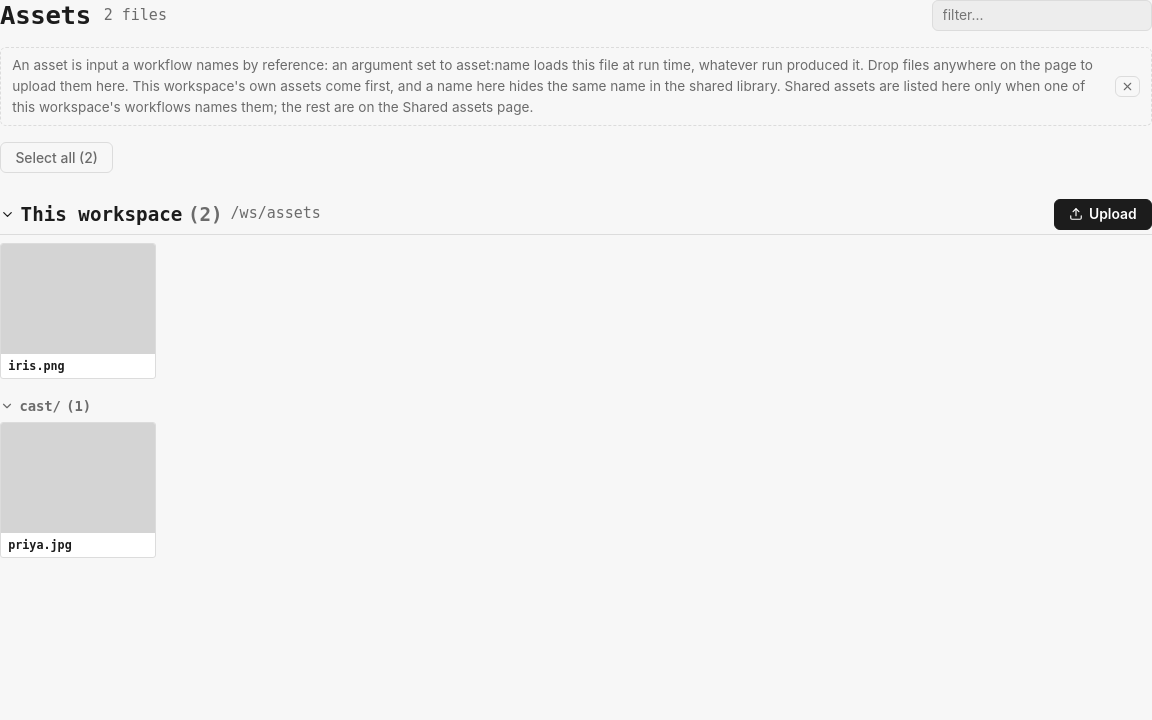
Test: clears the selection on Escape before it closes the detail
The width and height of the screenshot is (1152, 720).
Expected: the text "iris.png" is shown, top-left (8, 359), bottom-right (65, 373)
Click the button with aria-label "show details for iris.png": {"x": 78, "y": 311} top-left (0, 243), bottom-right (156, 379)
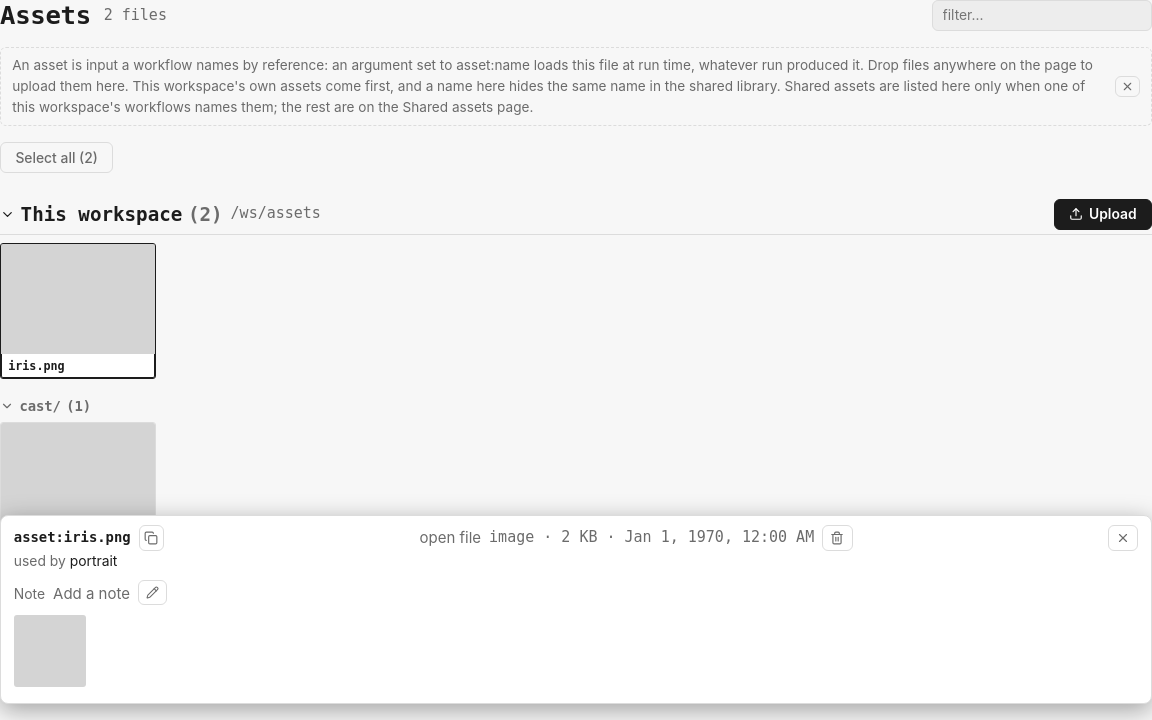
Expected: the text "asset:iris.png" is shown, top-left (14, 527), bottom-right (131, 549)
Click the checkbox named "select iris.png": {"x": 78, "y": 311} top-left (0, 243), bottom-right (156, 379)
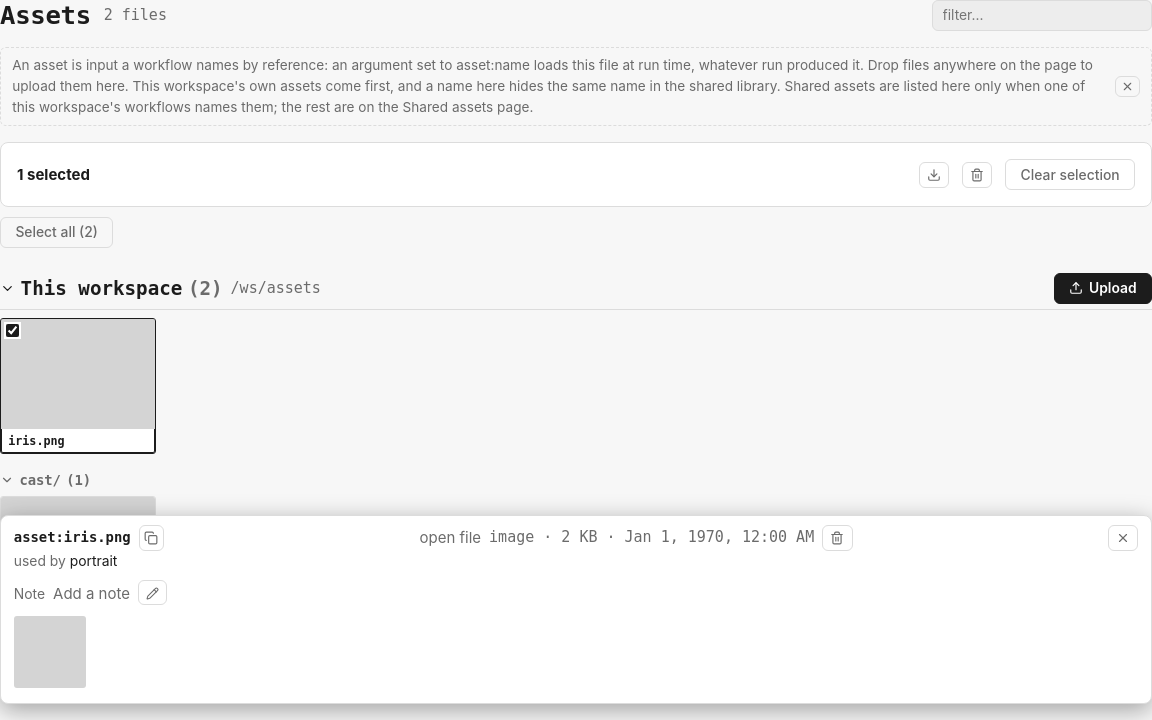
Expected: the text "1 selected" is shown, top-left (17, 163), bottom-right (90, 186)
Press Escape
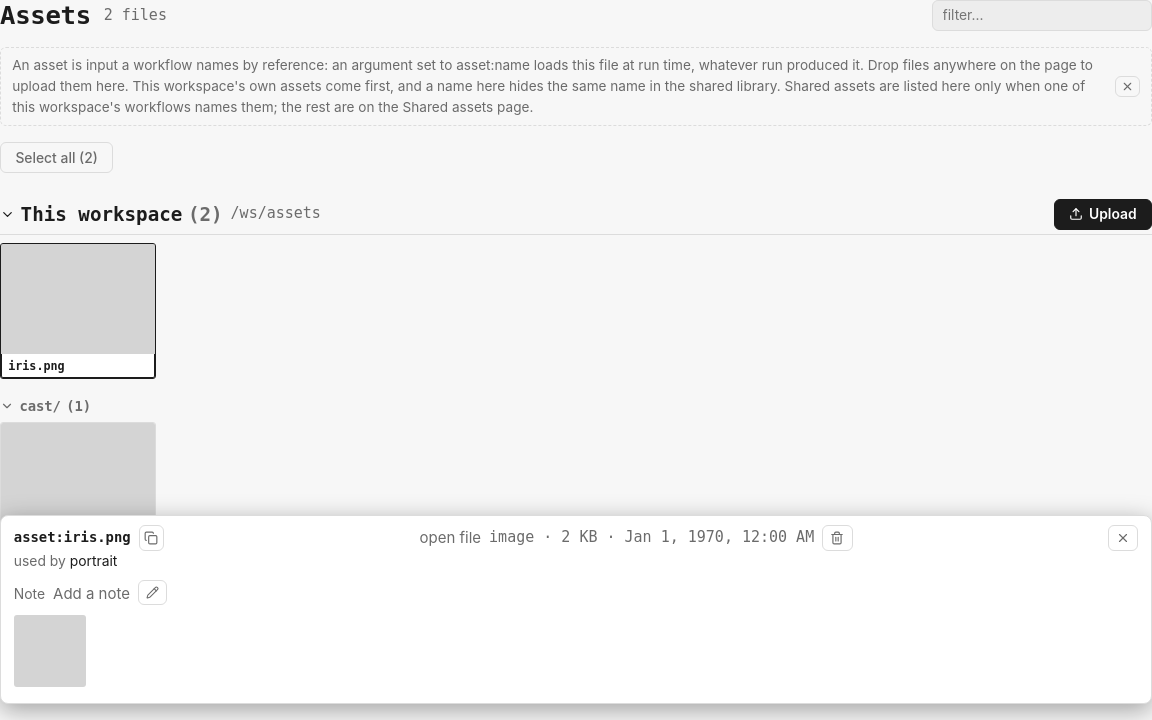
Expected: the text "asset:iris.png" is shown, top-left (14, 527), bottom-right (131, 549)
Expected: the text "1 selected" is gone
Press Escape
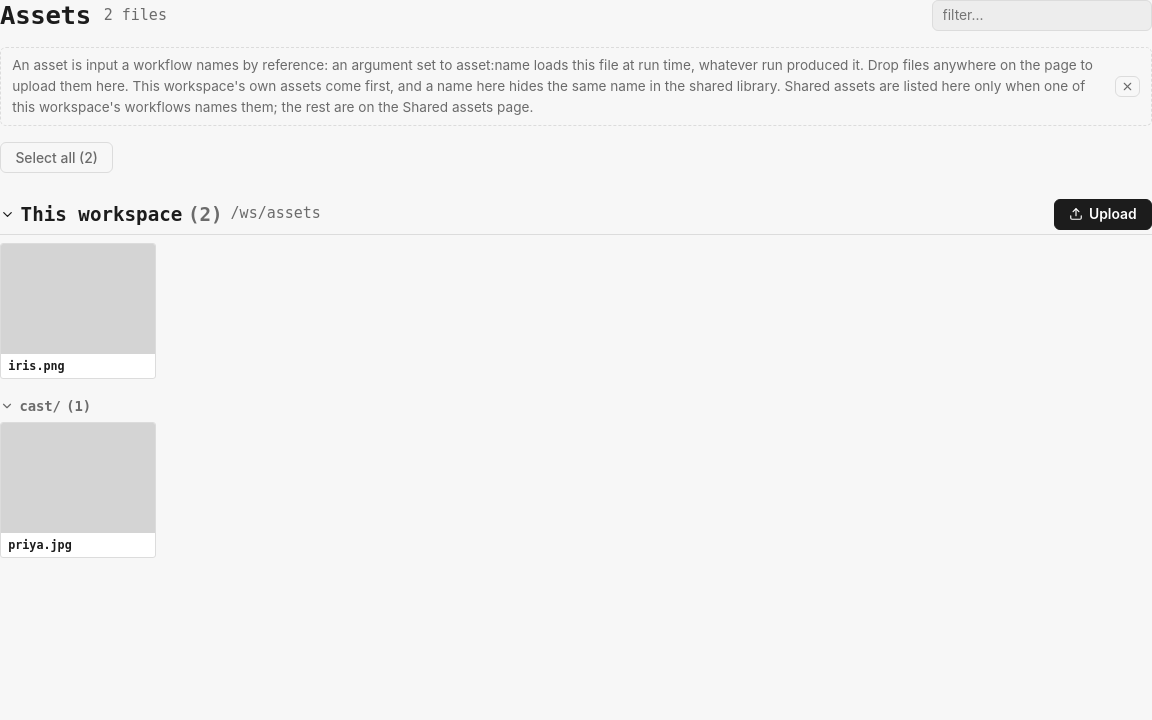
Expected: the text "asset:iris.png" is gone
